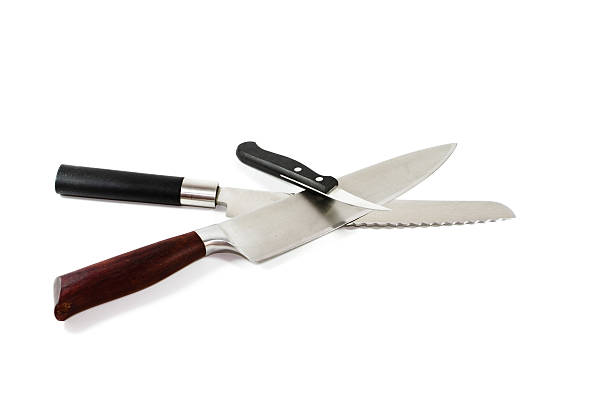knife: (50, 140, 460, 323), (54, 163, 518, 228), (234, 141, 394, 213)
